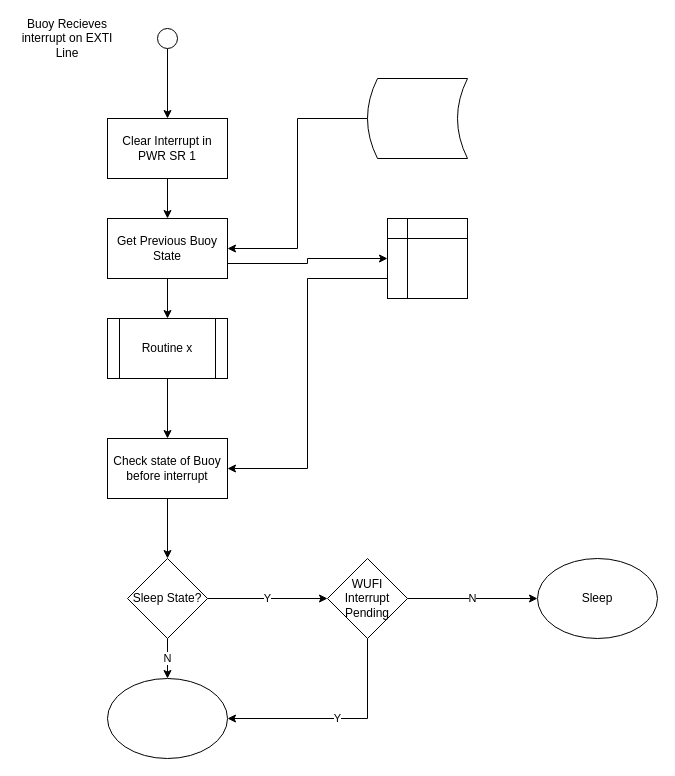
Some shapes in this 675 by 776 pixel diagram are drawn without their labels. The box of each missing label's shape, as (x1, y1, x2, y2) in pixels:
exit state: (386, 218, 468, 298)
Main Loop: (106, 678, 228, 758)
RTC_BKUP 0: (366, 78, 468, 158)
